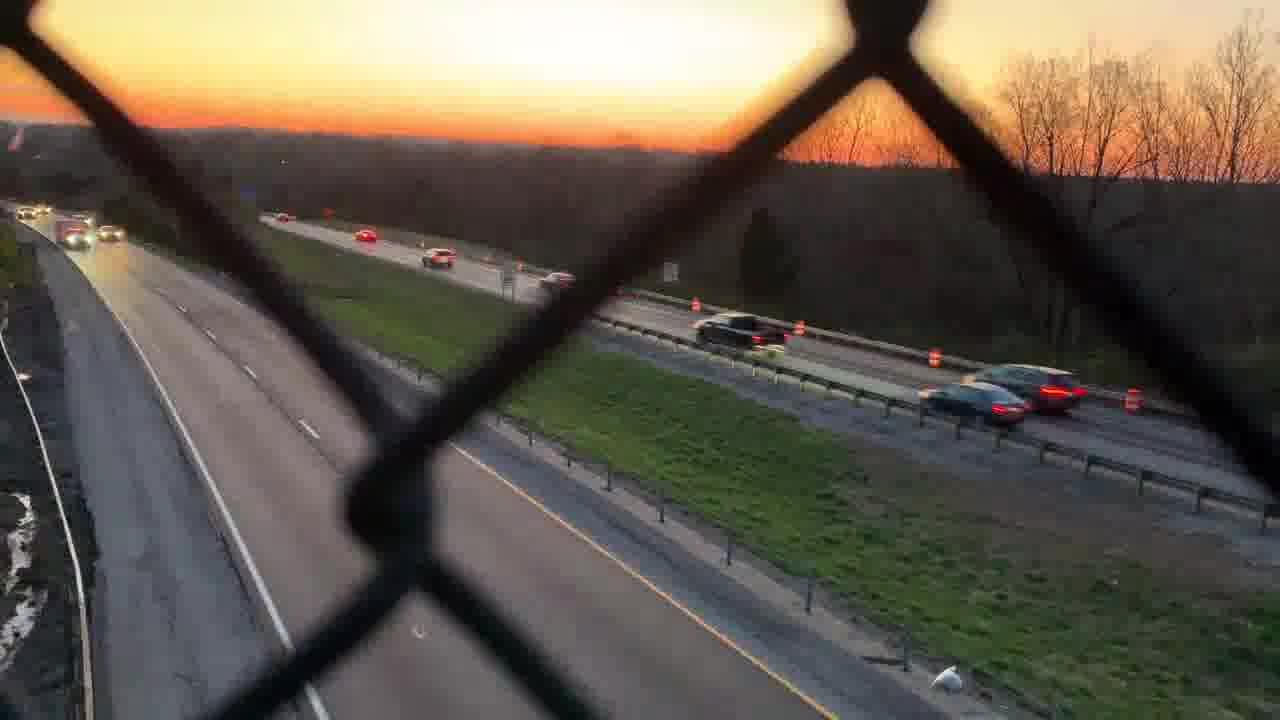largeCar: (967, 360, 1089, 409), (694, 309, 793, 359), (419, 249, 462, 270)
smallCar: (919, 380, 1025, 426)
